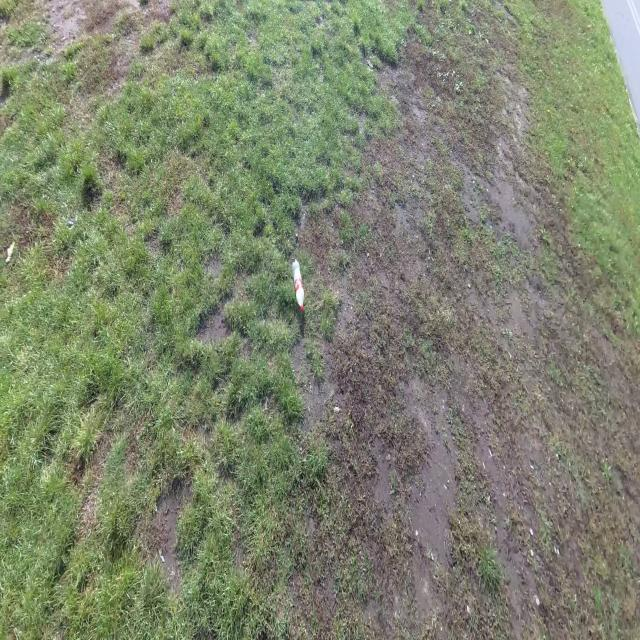rubbish: (291, 257, 304, 313)
